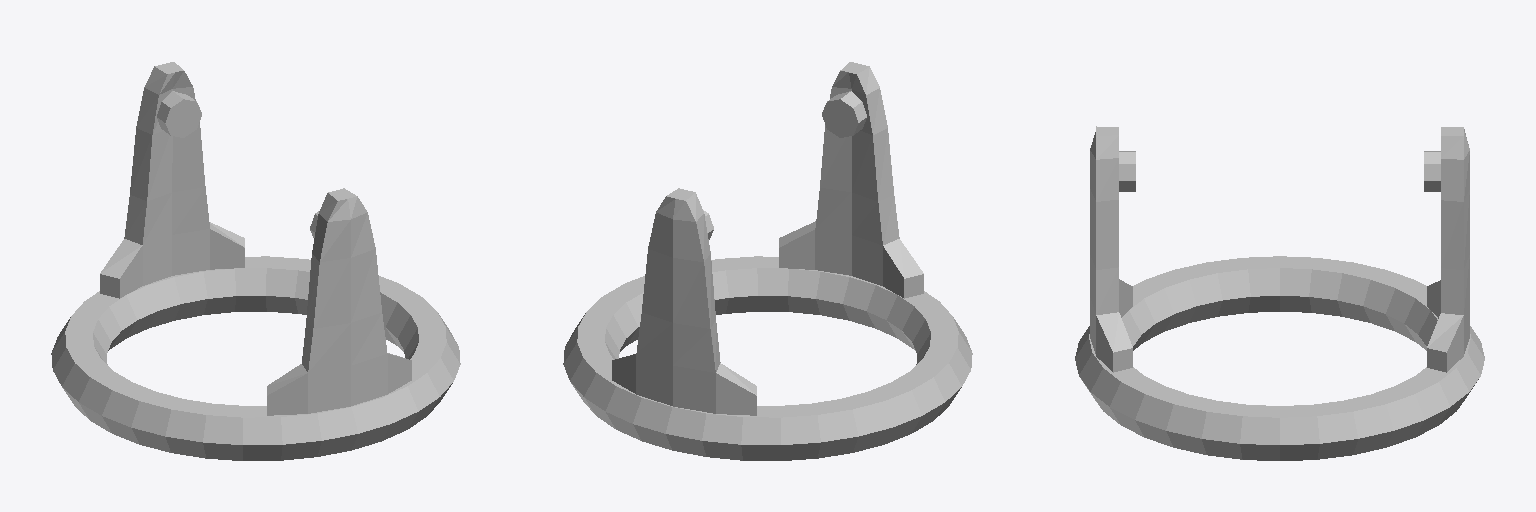
The model's file is cannon_mount.obj.
The picture shows the model from 3 angles: view 1: azimuth 30°, elevation 25°; view 2: azimuth 150°, elevation 25°; view 3: azimuth 270°, elevation 25°; orthographic projection.
Visible parts, largest first — view 1: 环体.002, 立方体.018_立方体.005, 立方体.004_立方体.023, 柱体.002_柱体.010; view 2: 环体.002, 立方体.004_立方体.023, 立方体.018_立方体.005, 柱体.001; view 3: 环体.002, 立方体.018_立方体.005, 立方体.004_立方体.023, 柱体.002_柱体.010, 柱体.001.
Boxes of the visible parts, box(x1,y1,x2,y2) form: 环体.002: box(51, 256, 460, 460); 立方体.018_立方体.005: box(267, 188, 411, 415); 立方体.004_立方体.023: box(100, 62, 244, 298); 柱体.002_柱体.010: box(157, 91, 201, 137); 环体.002: box(563, 256, 972, 460); 立方体.004_立方体.023: box(612, 188, 756, 415); 立方体.018_立方体.005: box(779, 62, 923, 298); 柱体.001: box(822, 91, 866, 137); 环体.002: box(1075, 256, 1484, 460); 立方体.018_立方体.005: box(1090, 126, 1132, 372); 立方体.004_立方体.023: box(1427, 127, 1469, 372); 柱体.002_柱体.010: box(1424, 151, 1440, 191); 柱体.001: box(1119, 151, 1135, 191).
Size of the model in its own units: 1.12 by 0.7486 by 1.12.